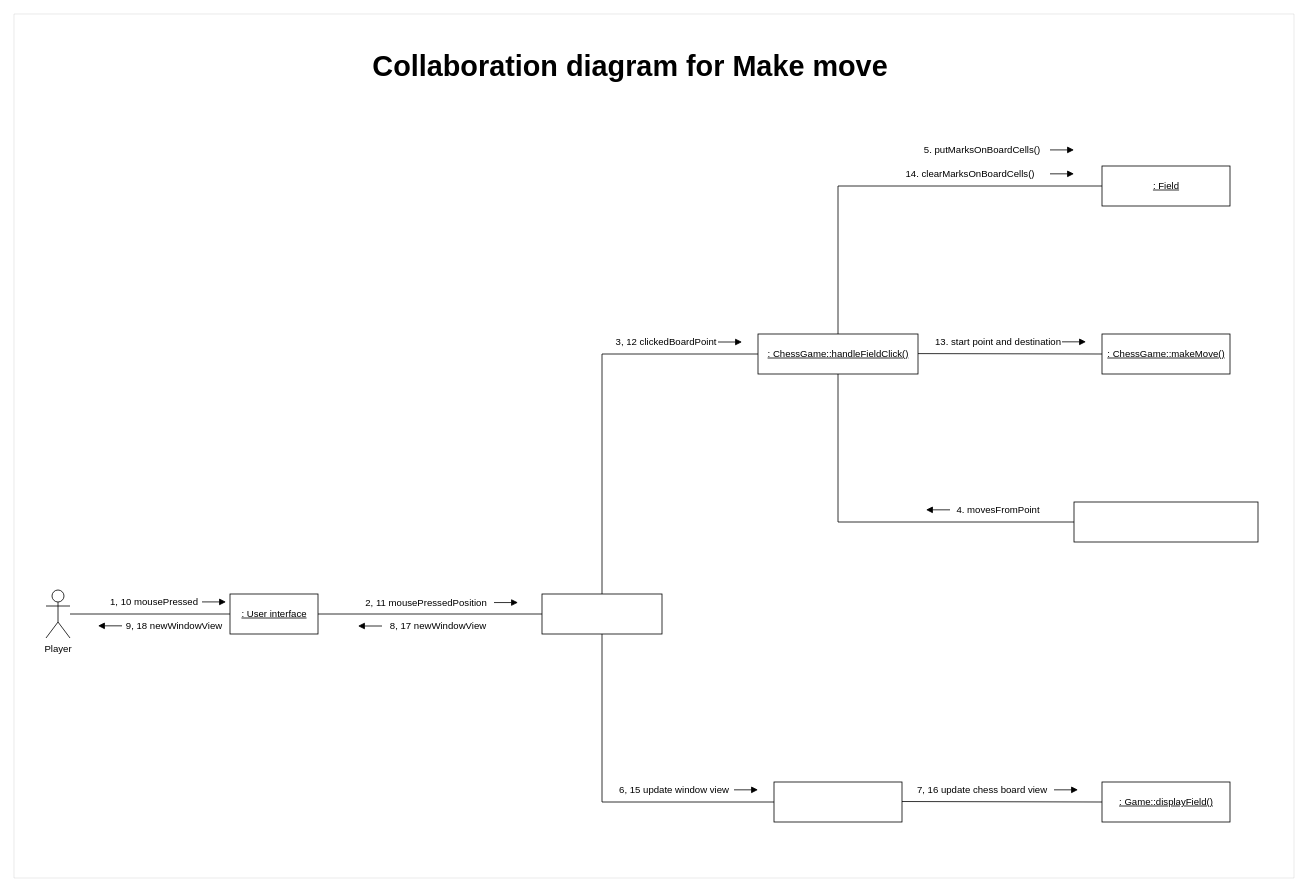
Image size: 1307x891. Some labels were removed from this diagram. The shapes that lost their labels are listed below. From the top down, each one's centre as x and y in pixels, then its label:
At (x=1165, y=521): ": ChessGame::movesFromPoint()".
At (x=601, y=613): ": ChessGame::exec()".
At (x=837, y=801): ": ChessGame::update()".
